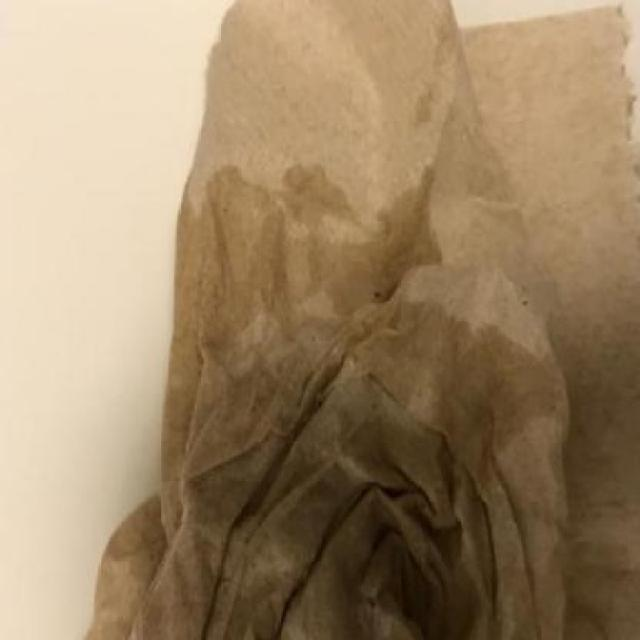trash: (78, 0, 640, 640)
